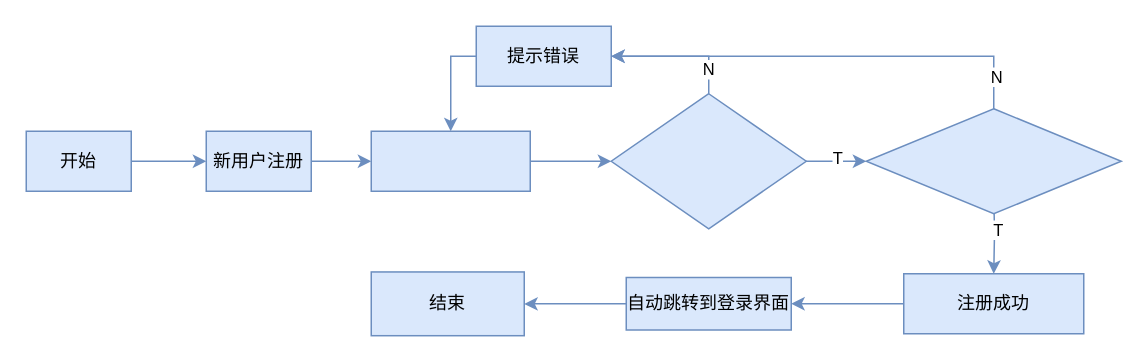
This 1148x363 diagram has some shape labels left out. The box of each missing label's shape, as (x1, y1, x2, y2) in pixels:
判断密码长度是否大于8 并且两次输入的密码是否相同: (865, 107, 1121, 214)
判断用户名是否为空或者已经被注册: (610, 92, 806, 229)
输入用户名和密码: (370, 130, 530, 191)
